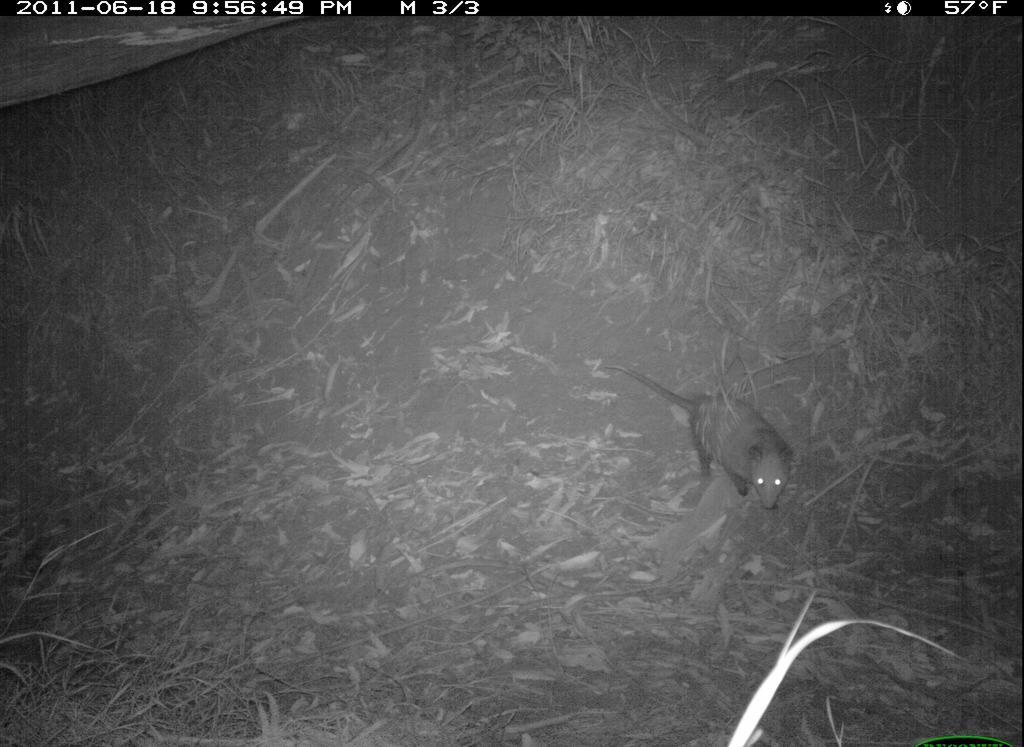opossum: (605, 358, 799, 518)
